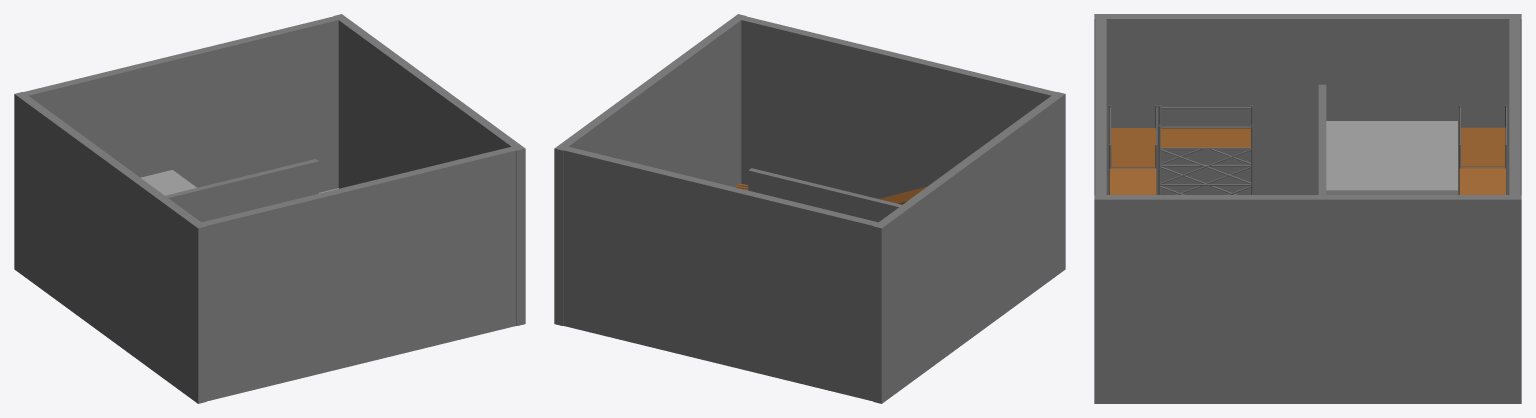
Rendered from Room.fbx.
3 views of the same model, side by side, from view 1: azimuth 30°, elevation 25°; view 2: azimuth 150°, elevation 25°; view 3: azimuth 270°, elevation 25° (orthographic). The views are drawn at different scales.
Parts seen in each view (by area): view 1: Cube.018, Cube.015, Cube.017, Cube.016, Cube.021, Plane.001; view 2: Cube.017, Cube.018, Cube.015, Cube.016, Cube.021; view 3: Cube.016, Cube.015, Plane.001, Cube.024, Cube.019, Cube.022, Cube.017, Cube.018, Cube.023, Cube.020, Cube.021.
Part boxes in pixels (x1,y1,x2,y2): Cube.018: (202, 146, 516, 401); Cube.015: (14, 92, 206, 403); Cube.017: (19, 15, 341, 192); Cube.016: (333, 14, 525, 325); Cube.021: (165, 159, 318, 222); Plane.001: (141, 170, 196, 195); Cube.017: (560, 146, 882, 401); Cube.018: (741, 16, 1055, 204); Cube.015: (873, 92, 1065, 403); Cube.016: (554, 14, 746, 325); Cube.021: (748, 168, 901, 222); Cube.016: (1094, 195, 1521, 403); Cube.015: (1094, 14, 1521, 194); Plane.001: (1326, 121, 1457, 194); Cube.024: (1158, 105, 1253, 194); Cube.019: (1459, 104, 1507, 194); Cube.022: (1109, 105, 1157, 194); Cube.017: (1509, 16, 1520, 196); Cube.018: (1095, 19, 1106, 194); Cube.023: (1109, 168, 1156, 194); Cube.020: (1459, 168, 1505, 194); Cube.021: (1318, 84, 1326, 194).
Size of the model in its own units: 7613 by 3901 by 7401.
